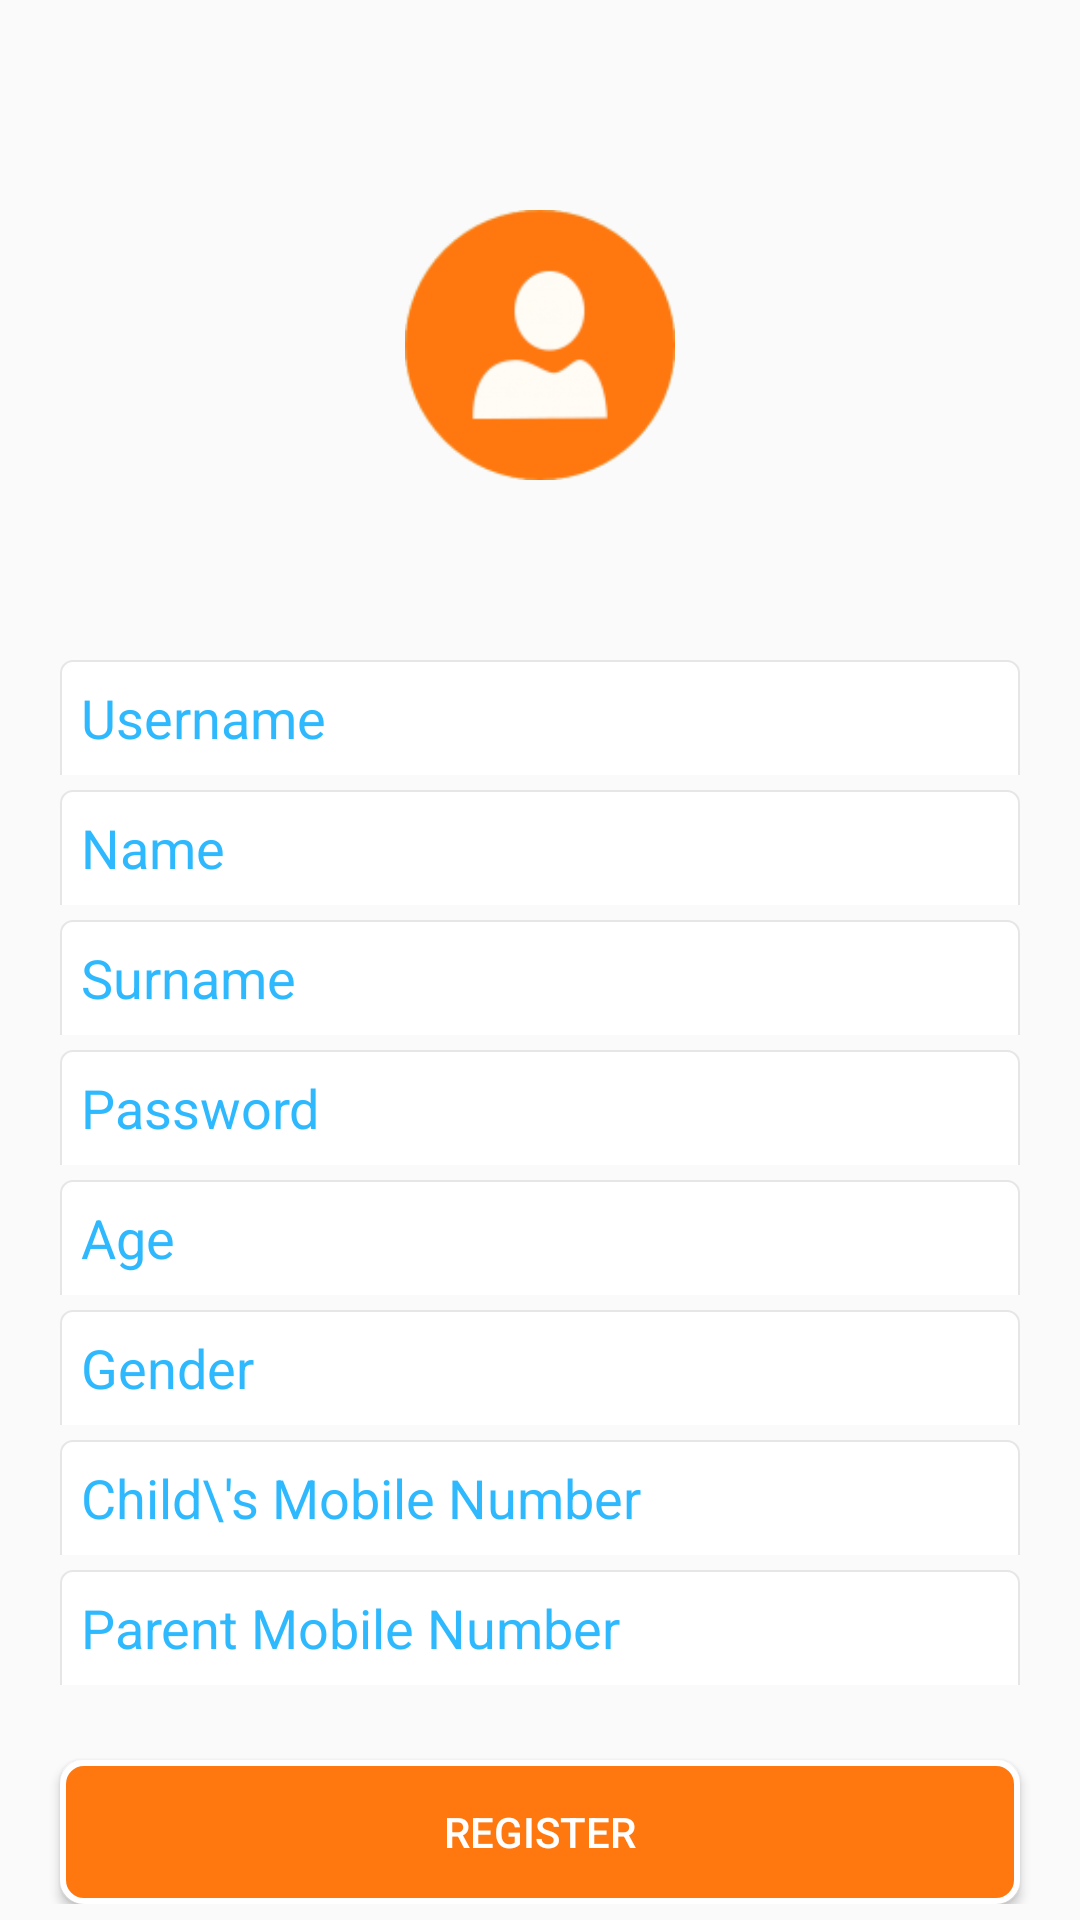

Point at icon controls on the screen. Image size 1080 x 1920, points as (x=x, y=y).
user profile: (x=540, y=345)
